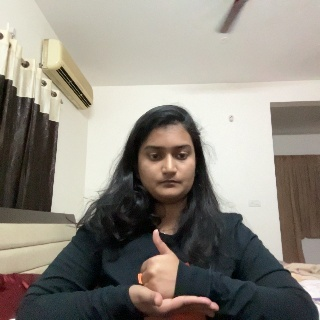Face: (135, 110, 198, 203)
Help: (124, 225, 222, 318)
